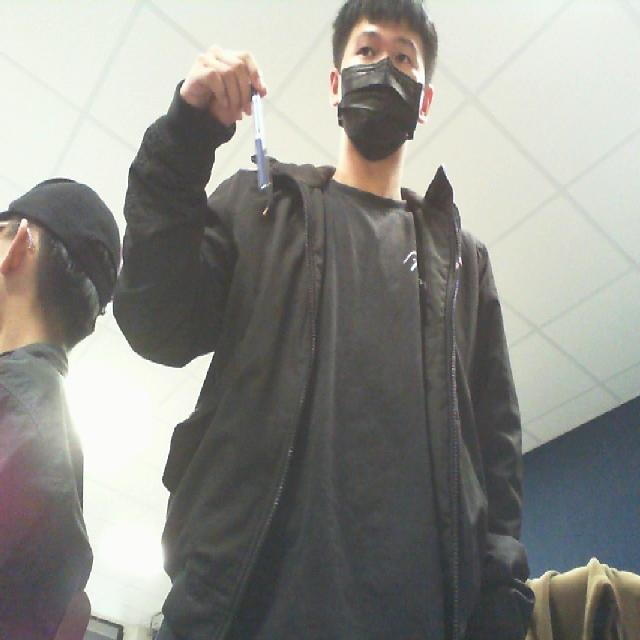Pen: (238, 83, 289, 219)
